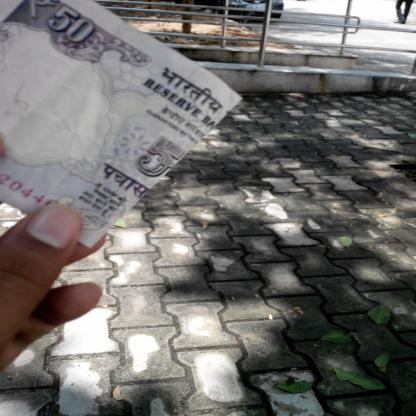Old50Front: (0, 0, 245, 249)
